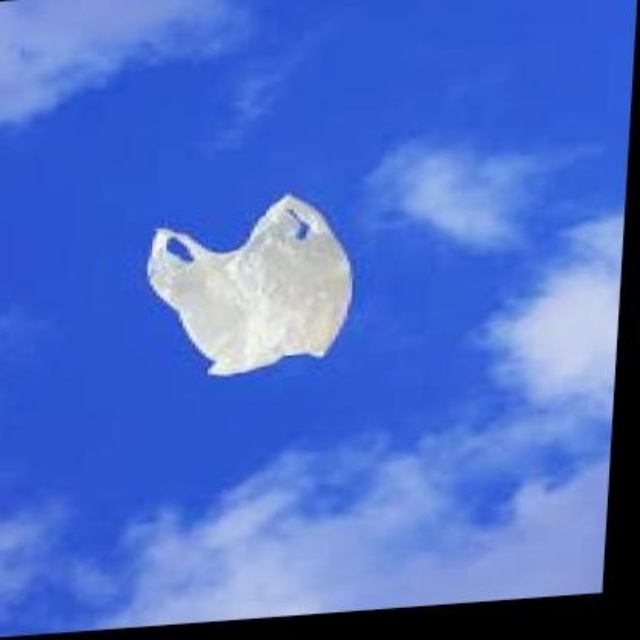trash: (148, 195, 351, 374)
